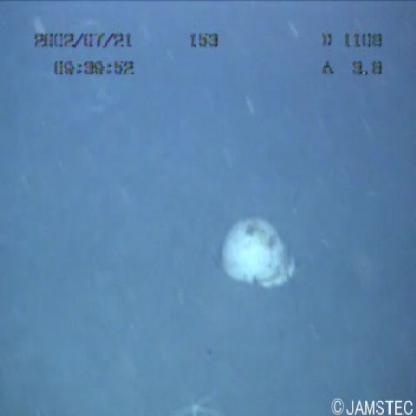Rác: (209, 208, 309, 294)
